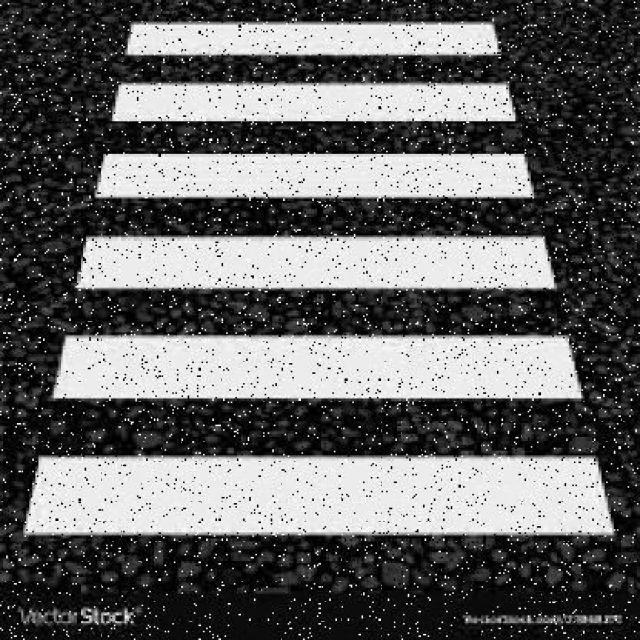Pedestrian crosswalk: (0, 0, 637, 566)
